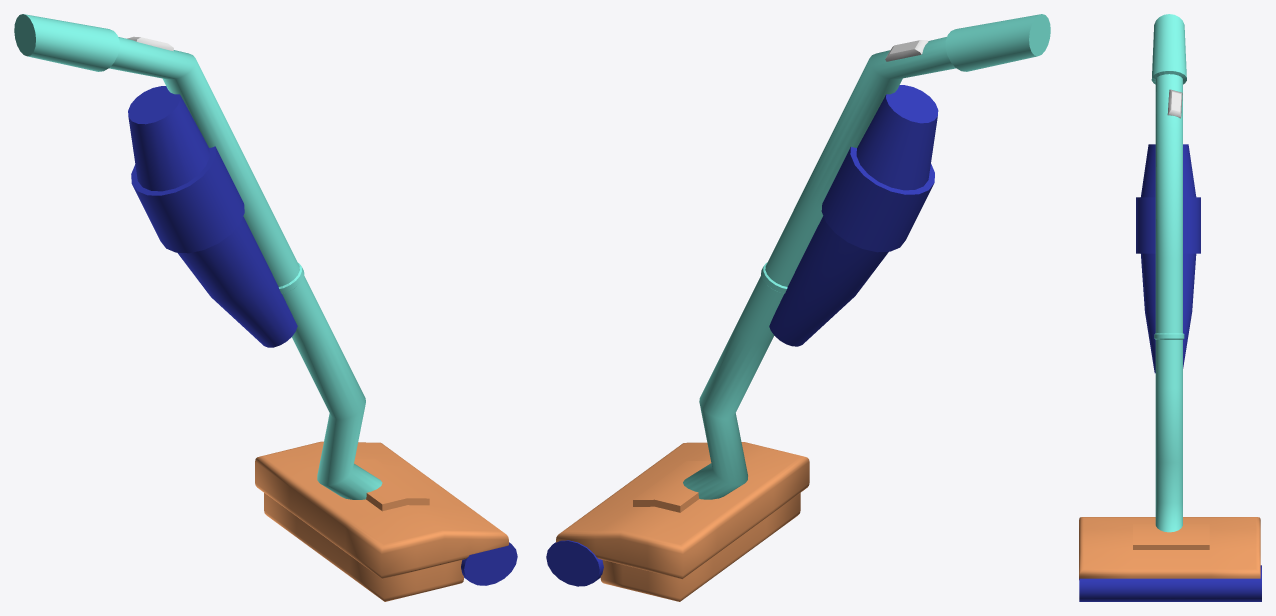
The model's file is CH_Vacuum.fbx.
3 views of the same model, side by side, from view 1: azimuth 30°, elevation 25°; view 2: azimuth 150°, elevation 25°; view 3: azimuth 270°, elevation 25° (orthographic). The views are drawn at different scales.
Parts seen in each view (by area): view 1: Box039, Cylinder026, Cylinder028, Cylinder027; view 2: Box039, Cylinder026, Cylinder028, Cylinder027; view 3: Cylinder026, Box039, Cylinder028, Cylinder027, Box044.
Part boxes in pixels (x1,y1,x2,y2): Box039: (255,441,508,601); Cylinder026: (14,14,382,499); Cylinder028: (128,86,297,347); Cylinder027: (461,542,517,585); Box039: (556,442,809,601); Cylinder026: (683,14,1050,499); Cylinder028: (769,85,938,346); Cylinder027: (546,540,603,586); Cylinder026: (1151,14,1186,532); Box039: (1079,517,1260,579); Cylinder028: (1136,144,1200,373); Cylinder027: (1079,565,1261,601); Box044: (1167,89,1182,118).
Size of the model in its own units: 354 by 487 by 181.
